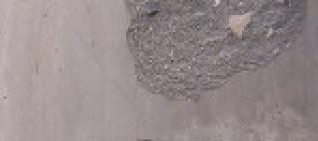Spalling: (124, 1, 308, 102)
